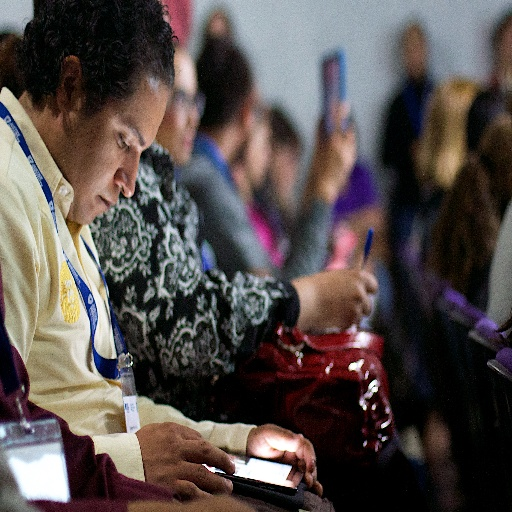hand: (123, 414, 238, 503), (245, 422, 324, 497), (313, 267, 380, 329), (315, 100, 357, 196), (126, 494, 254, 511)
